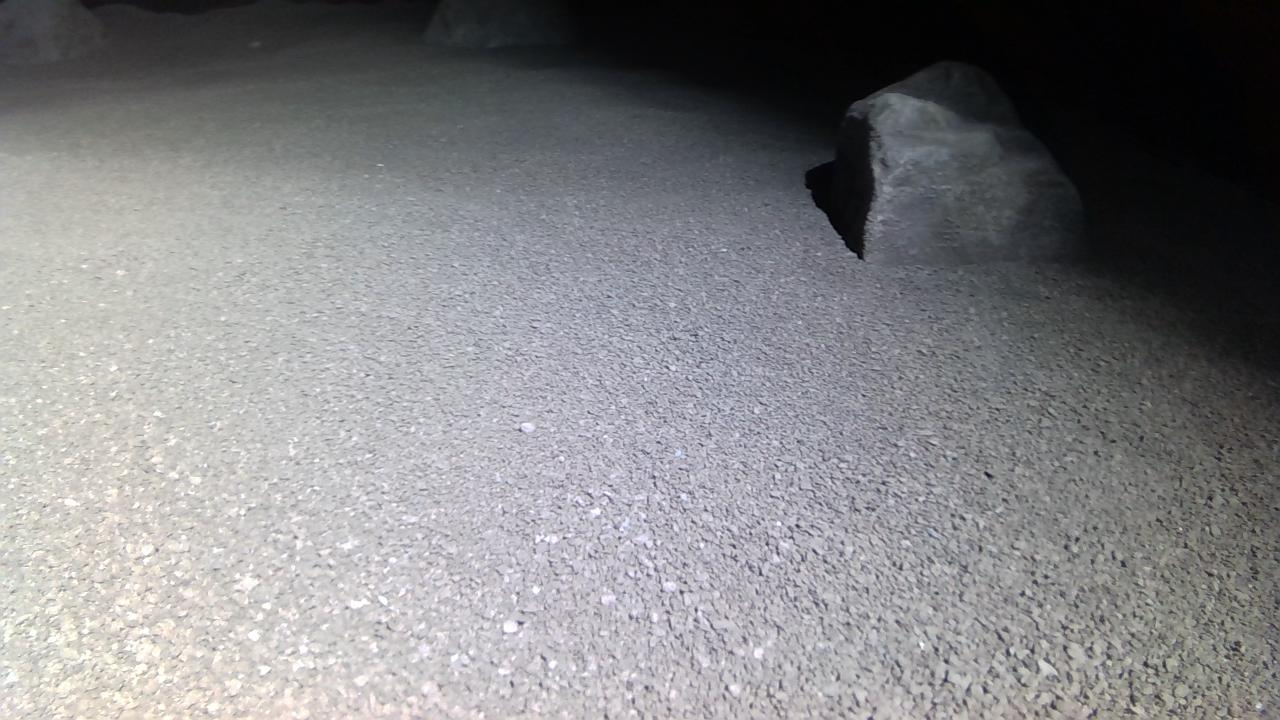rock: (831, 61, 1086, 265), (423, 0, 577, 46), (0, 1, 101, 62)
